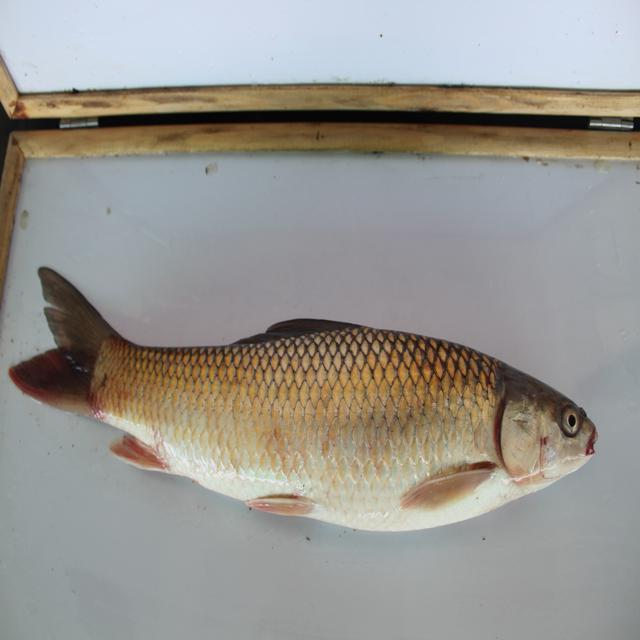Mori: (11, 259, 604, 545)
